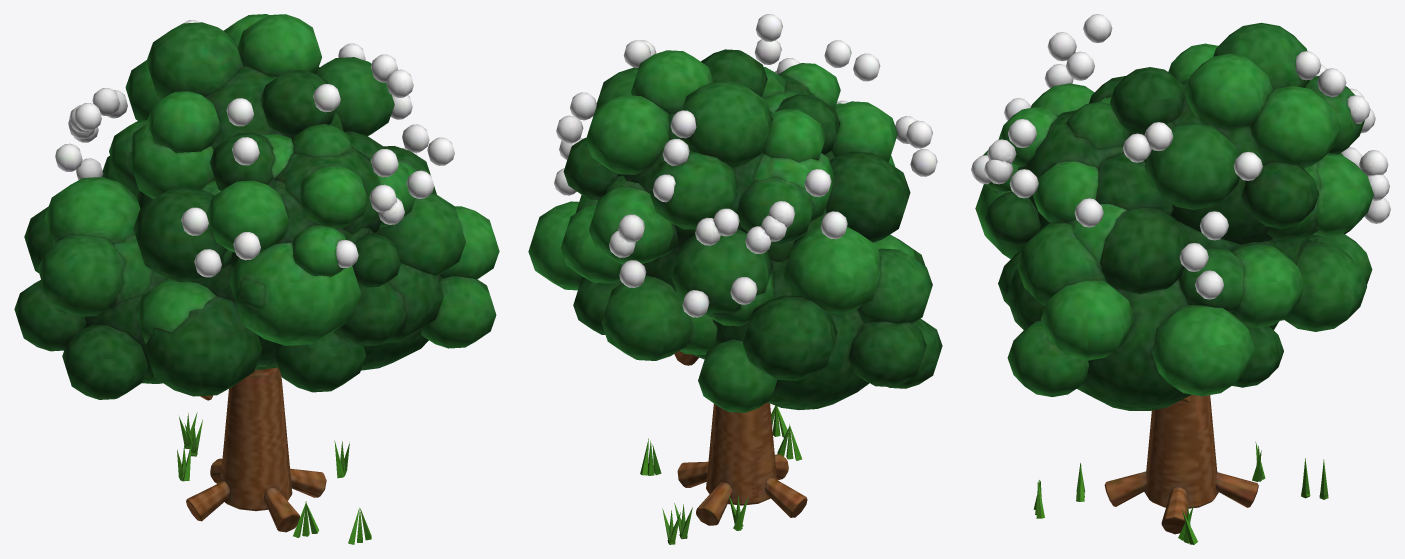
File: finger_lime_tree.glb
The picture shows the model from 3 angles, left to right: view 1: azimuth 30°, elevation 25°; view 2: azimuth 150°, elevation 25°; view 3: azimuth 270°, elevation 25°; orthographic projection. The views are drawn at different scales.
Visible parts, largest first — view 1: crown, finger_lime_tree; view 2: crown, finger_lime_tree; view 3: crown, finger_lime_tree.
Part boxes in pixels (x1,y1,x2,y2): crown: (14, 14, 499, 399); finger_lime_tree: (177, 367, 371, 544); crown: (528, 14, 942, 412); finger_lime_tree: (640, 350, 807, 544); crown: (971, 14, 1390, 410); finger_lime_tree: (1033, 394, 1328, 544).
Size of the model in its own units: 1.1 by 1.18 by 0.953.
1 material, 1 textured.
